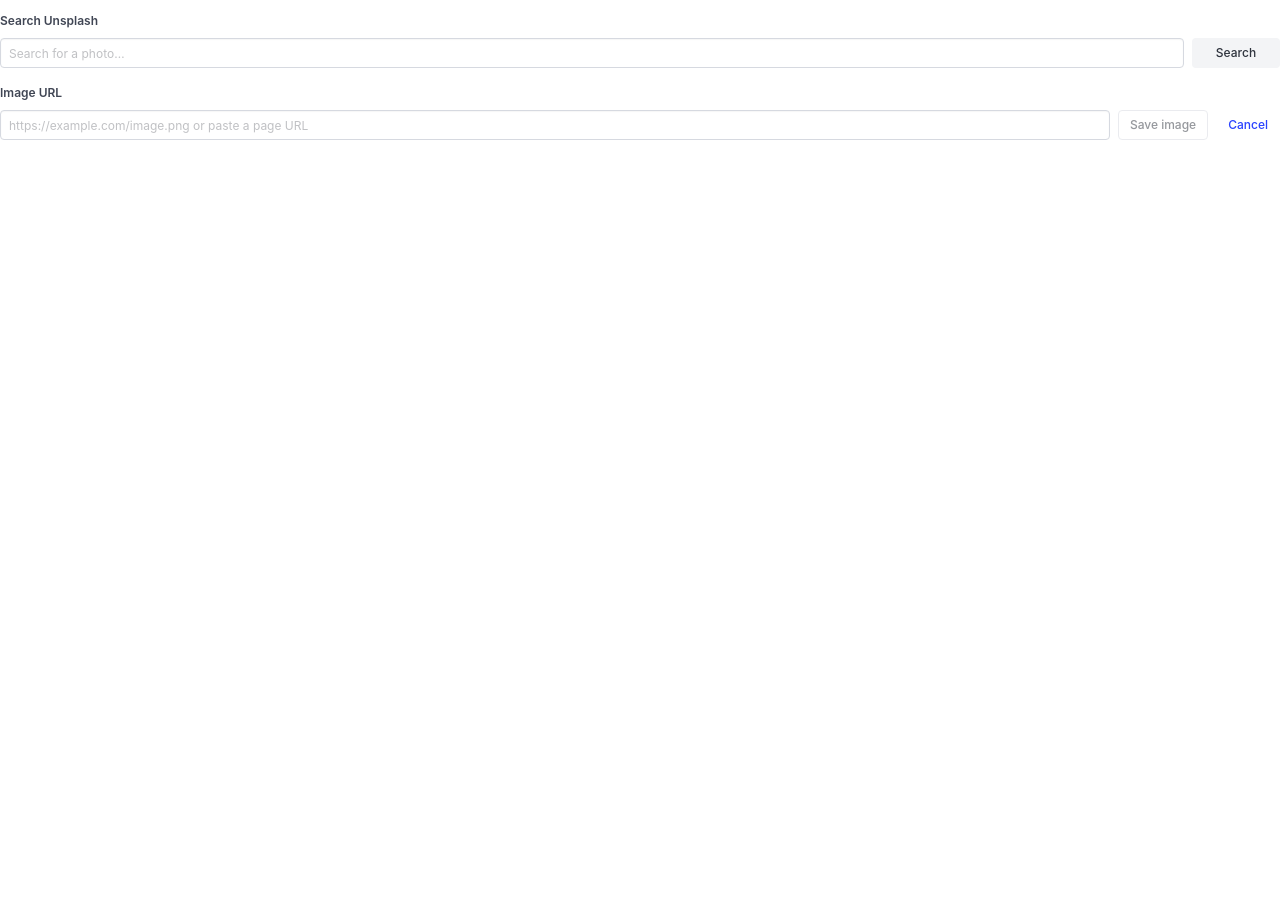
PostCardImageInput search mode — search and modal › opens the picker modal when results are returned
The image size is (1280, 900).
Type "nature" into the search field named "search unsplash" at {"x": 592, "y": 53}, box [0,38,1184,68]
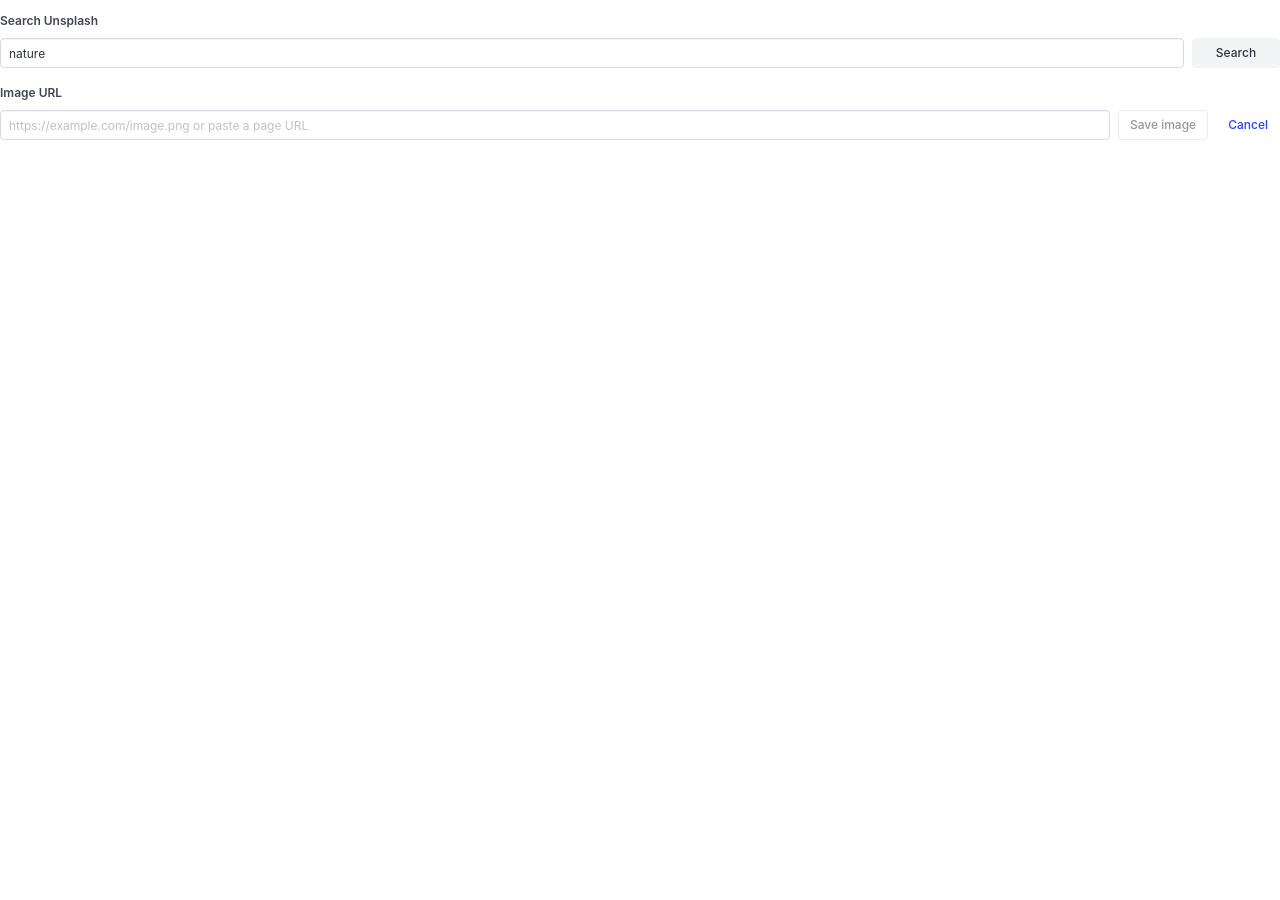
Click the button with aria-label "search images" at {"x": 1236, "y": 53}, box [1192,38,1279,68]
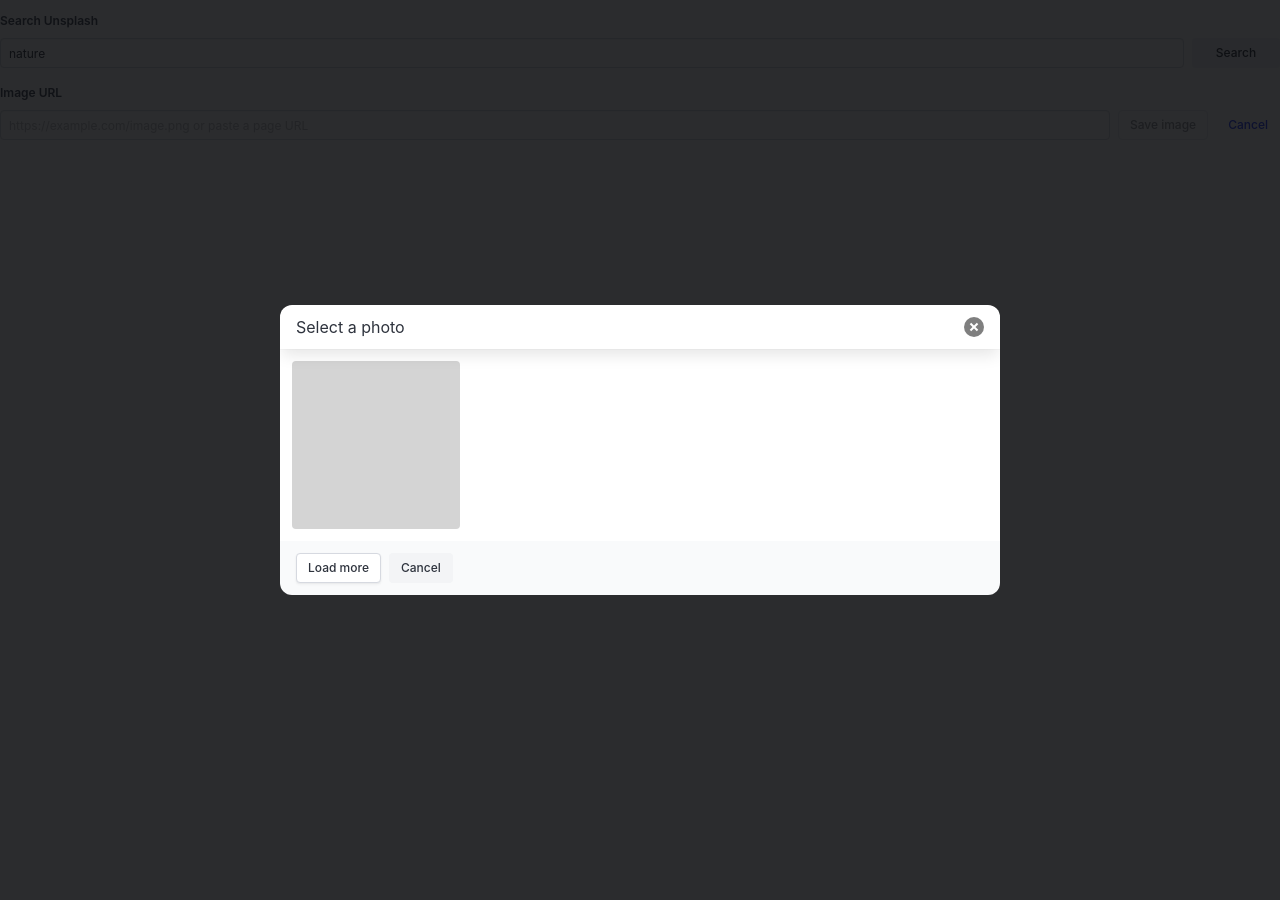
Expected: the element with class "is-active" is shown
